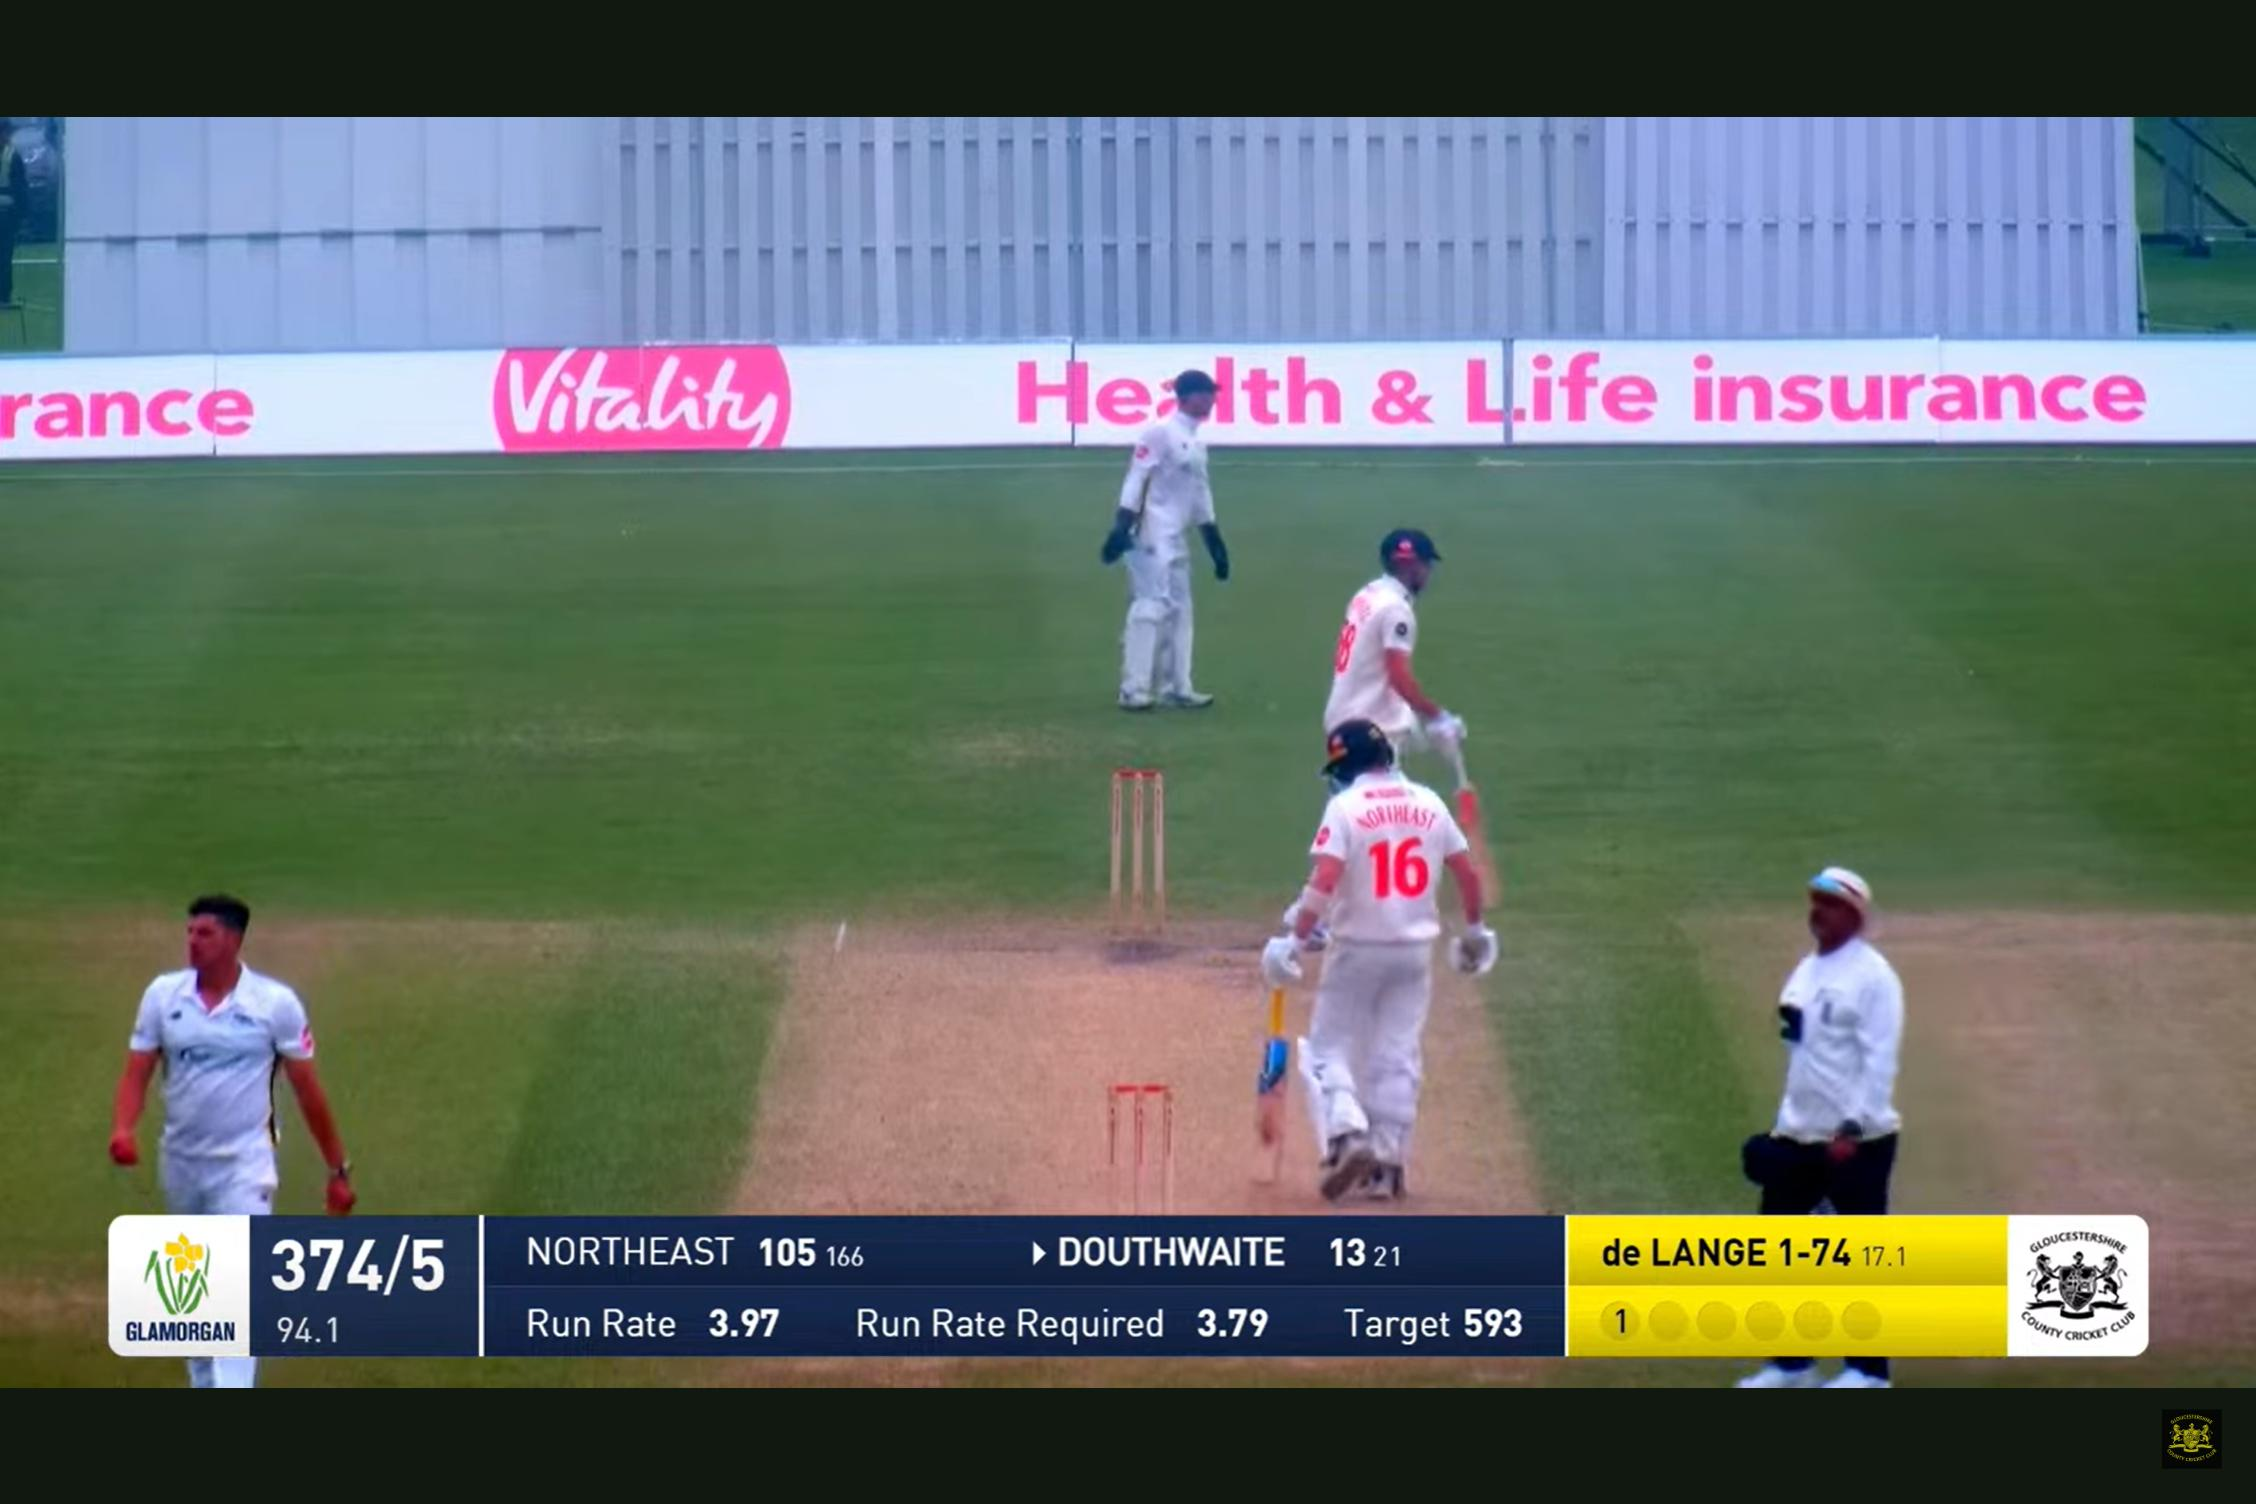bowler walking back: (86, 868, 373, 1219)
non striker: (1282, 707, 1454, 1192)
stumps: (1076, 735, 1190, 989), (1073, 1052, 1197, 1209)
umpire: (1741, 841, 1952, 1209)
